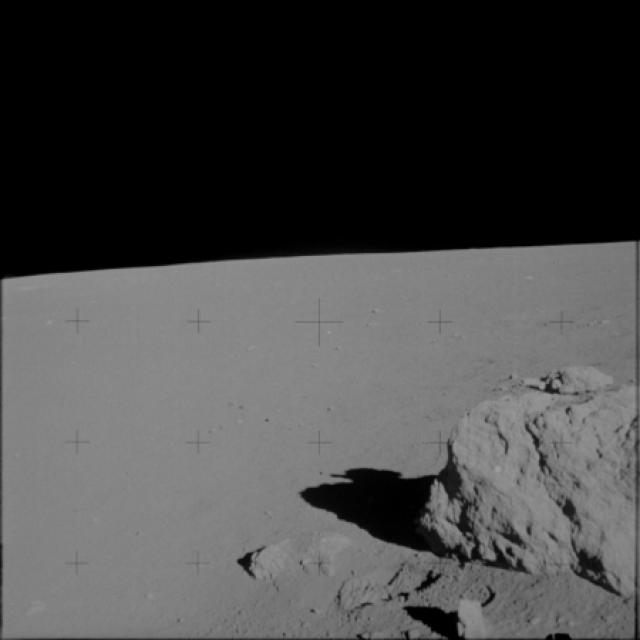rock: (404, 348, 638, 596), (318, 575, 401, 617), (296, 530, 363, 578), (442, 596, 502, 638), (244, 538, 288, 582)
